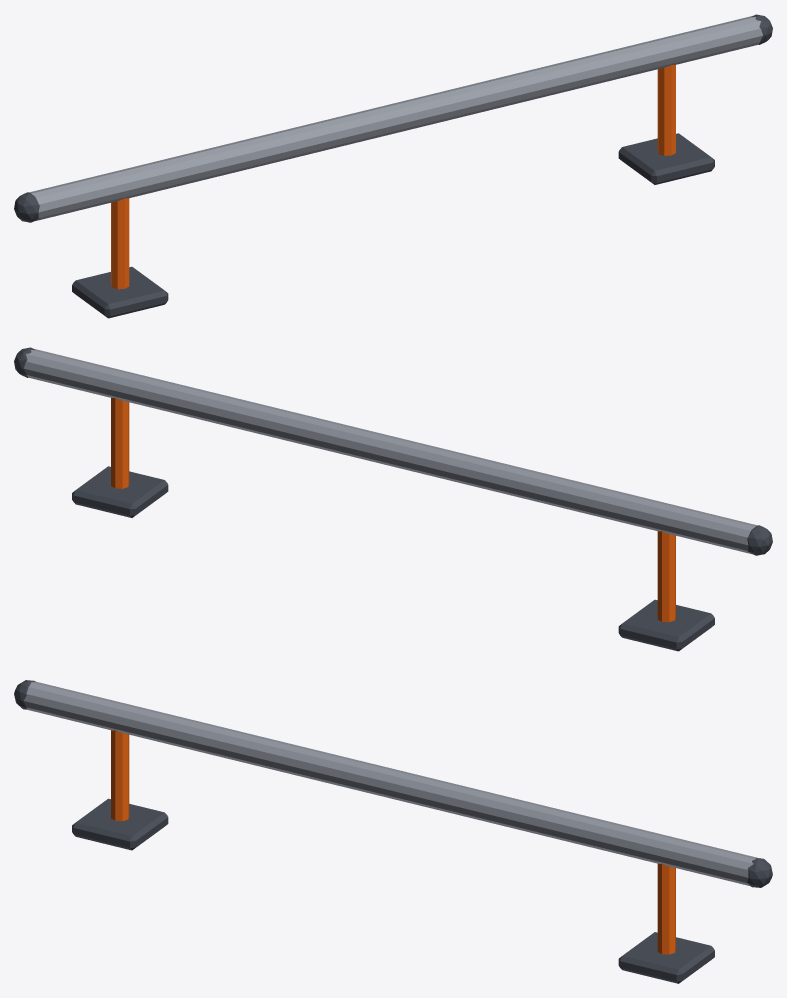
The model's file is rail_flat.obj.
The picture shows the model from 3 angles, top to bottom: view 1: azimuth 30°, elevation 25°; view 2: azimuth 150°, elevation 25°; view 3: azimuth 330°, elevation 25°; orthographic projection.
Parts seen in each view (by area): view 1: rail_flat; view 2: rail_flat; view 3: rail_flat.
Boxes of the visible parts, bbox=[...] form: rail_flat: bbox=[14, 14, 772, 318]; rail_flat: bbox=[14, 347, 772, 651]; rail_flat: bbox=[14, 680, 772, 983].
Bounding box in the file's own units: 16.56 × 2.69 × 1.4.
Materials: 1 (1 with a texture image).
